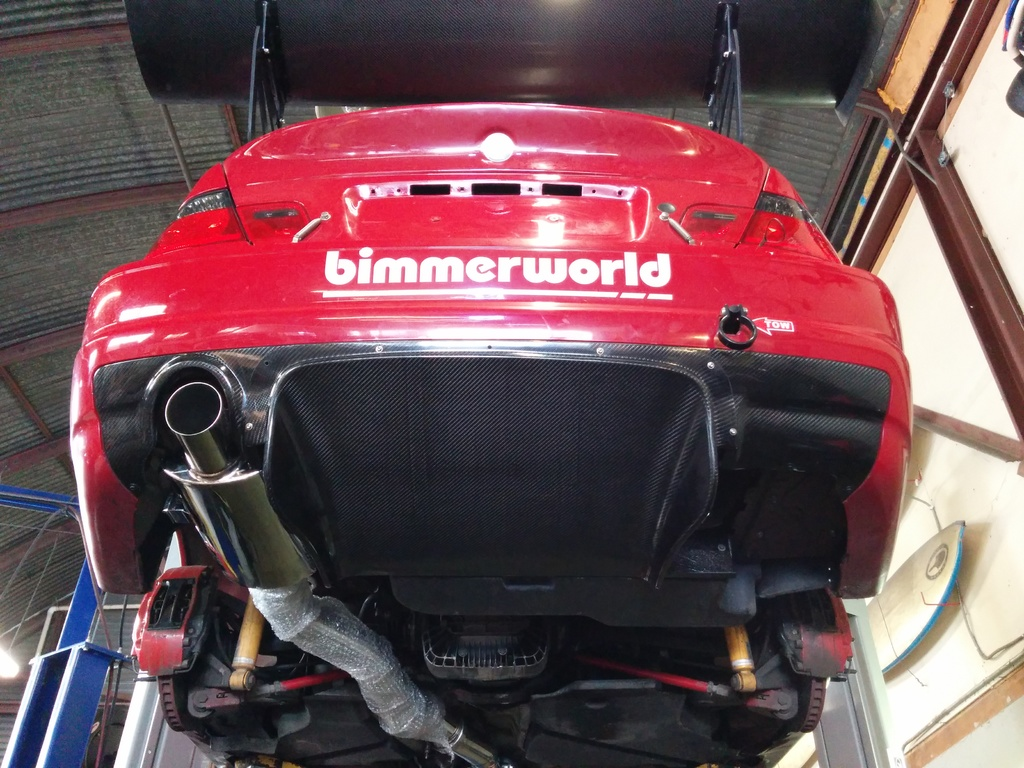cars: (71, 0, 917, 767)
